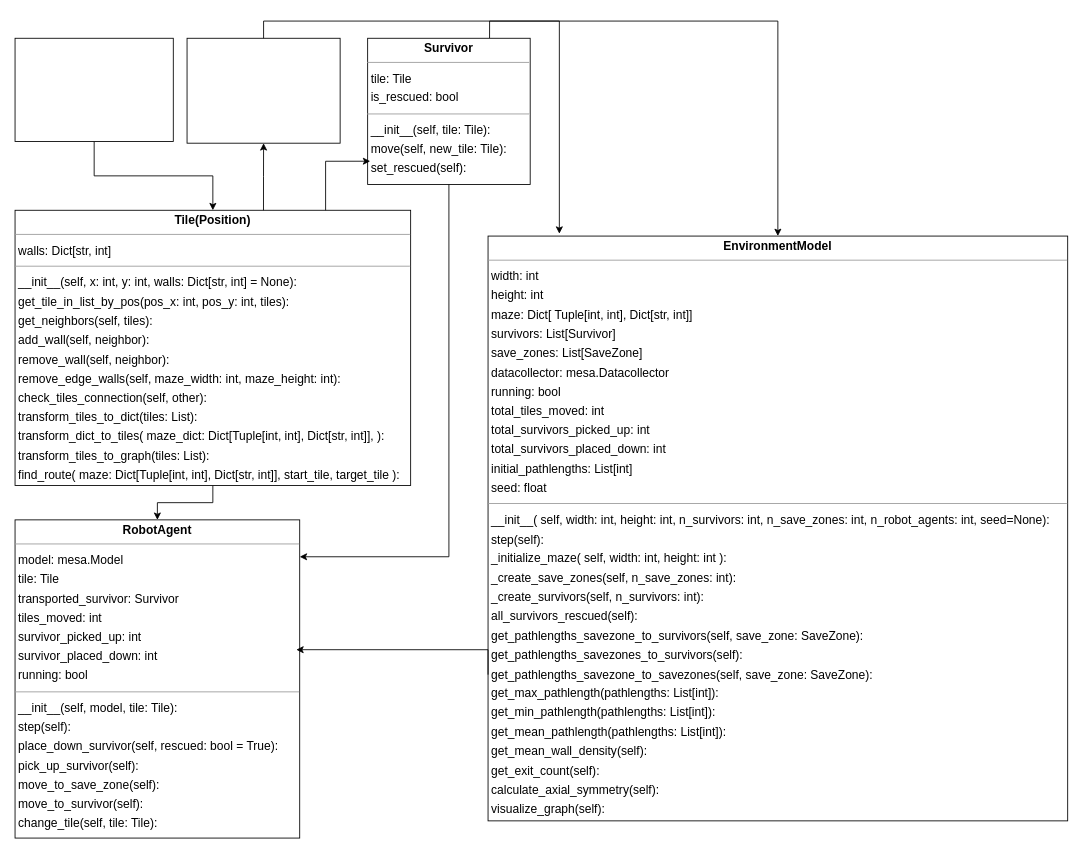
Image size: 1083x860. Some labels were removed from this diagram. Here are the shapes that lost their labels. From the top down, the centre of each, then its label:
point (93, 89): Position(ABC) x: int y: int __init__(self, x: int, y: int):
point (263, 90): SaveZone tile: Tile __init__(self, tile: Tile):
